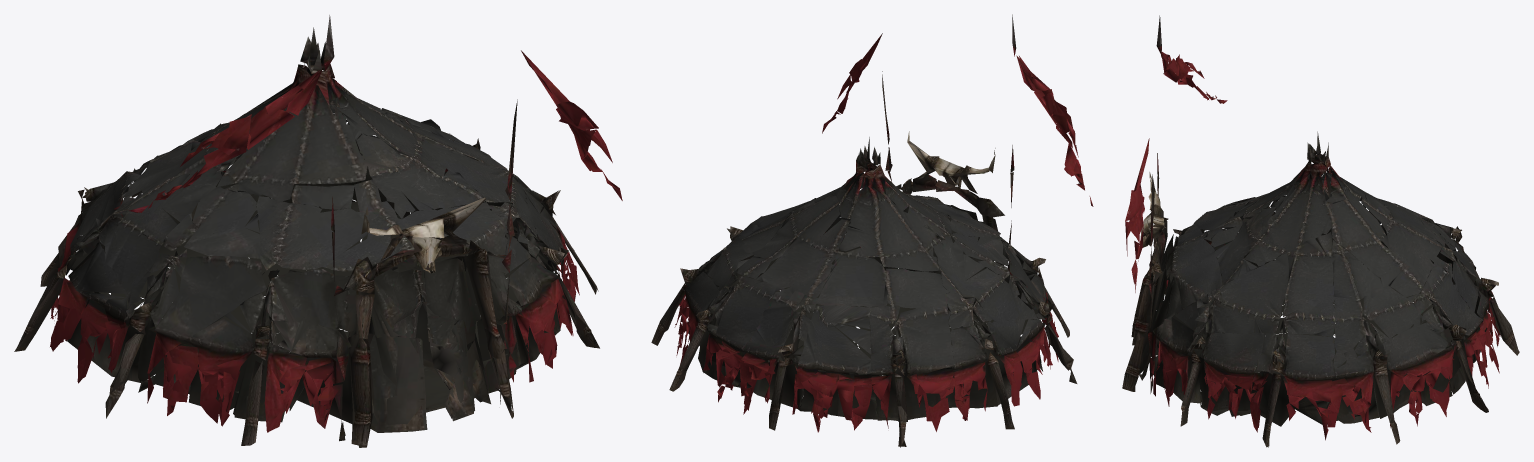
The model's file is GorakTent.fbx.
The picture shows the model from 3 angles, left to right: view 1: azimuth 30°, elevation 25°; view 2: azimuth 150°, elevation 25°; view 3: azimuth 270°, elevation 25°; orthographic projection. The views are drawn at different scales.
Visible parts, largest first — view 1: GorakTent_Body; view 2: GorakTent_Body; view 3: GorakTent_Body.
Part boxes in pixels (box(x1,y1,x2,y2)): GorakTent_Body: box(14, 15, 622, 447); GorakTent_Body: box(651, 14, 1093, 447); GorakTent_Body: box(1122, 15, 1519, 447).
Bounding box in the file's own units: 1.22 × 0.9991 × 1.12.
Materials: 1 (1 with a texture image).
